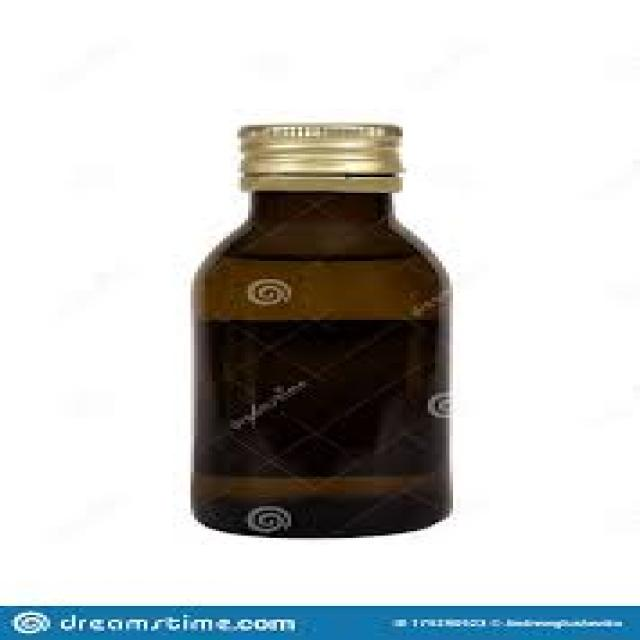glass: (184, 191, 450, 536)
metal: (234, 118, 399, 188)
